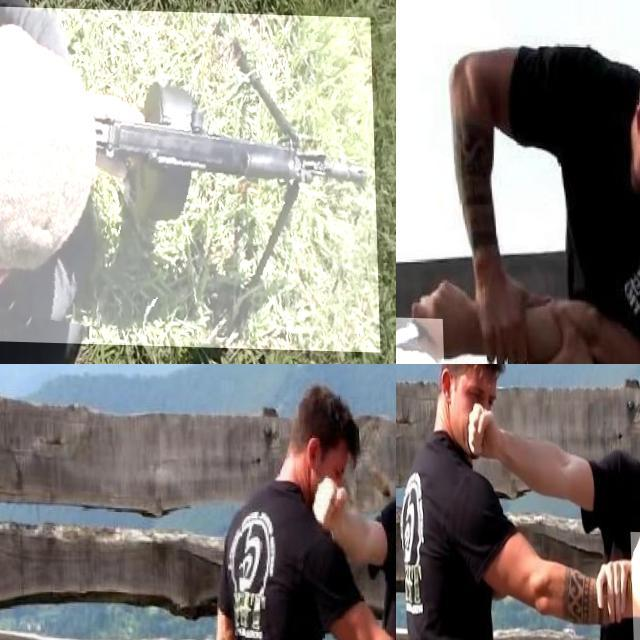-: (396, 316, 445, 364)
gun-knife-thesis - v11 Yolov5 augmented: (0, 3, 377, 349)
